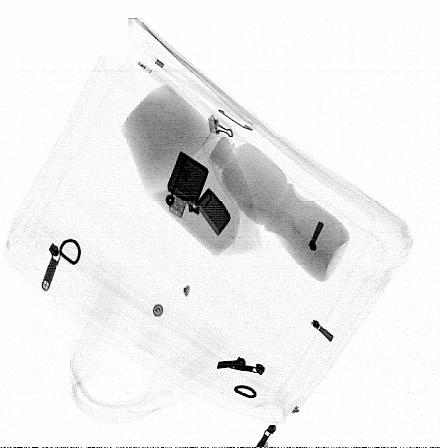Lighter: (164, 150, 232, 238)
